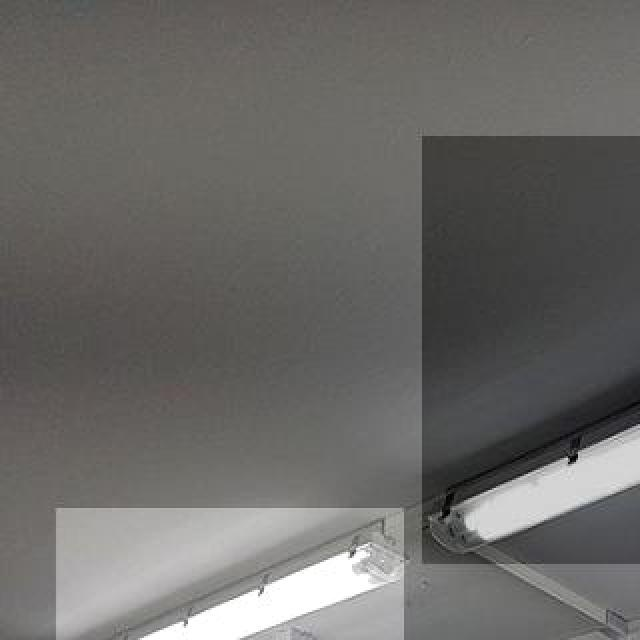fluorescent tube: (428, 152, 640, 550), (58, 534, 410, 640), (2, 632, 72, 640)
